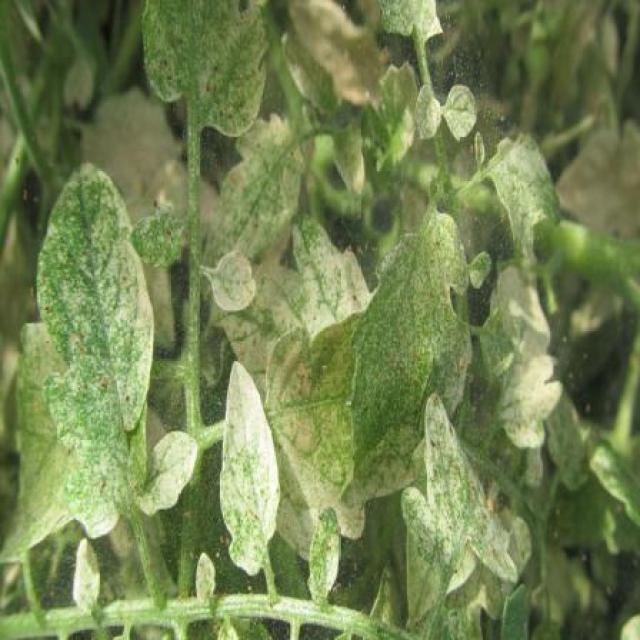Spider Mites: (35, 160, 155, 546), (346, 201, 471, 509), (217, 353, 280, 576)
